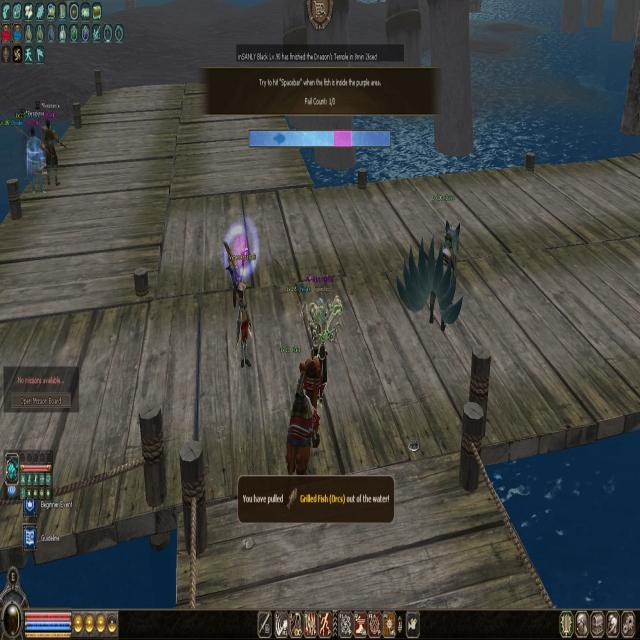box: (334, 130, 352, 150)
fishes: (272, 132, 286, 145)
